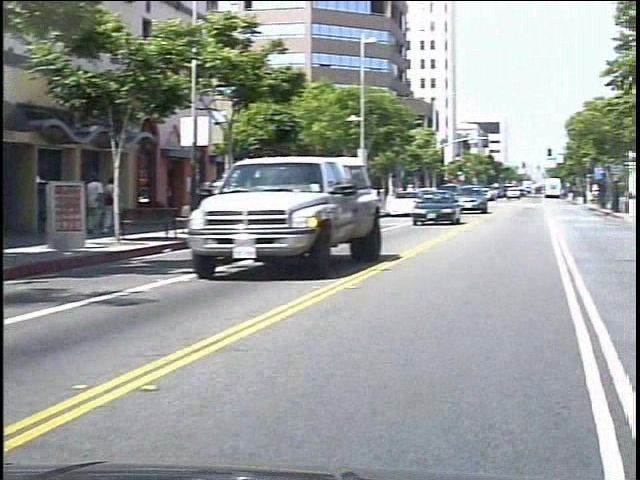person: (99, 172, 117, 235), (112, 174, 128, 238)
